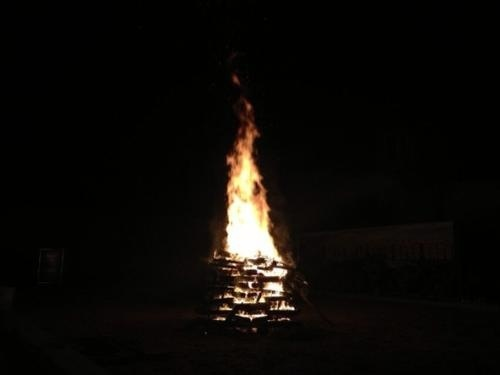fire: (217, 74, 291, 321)
